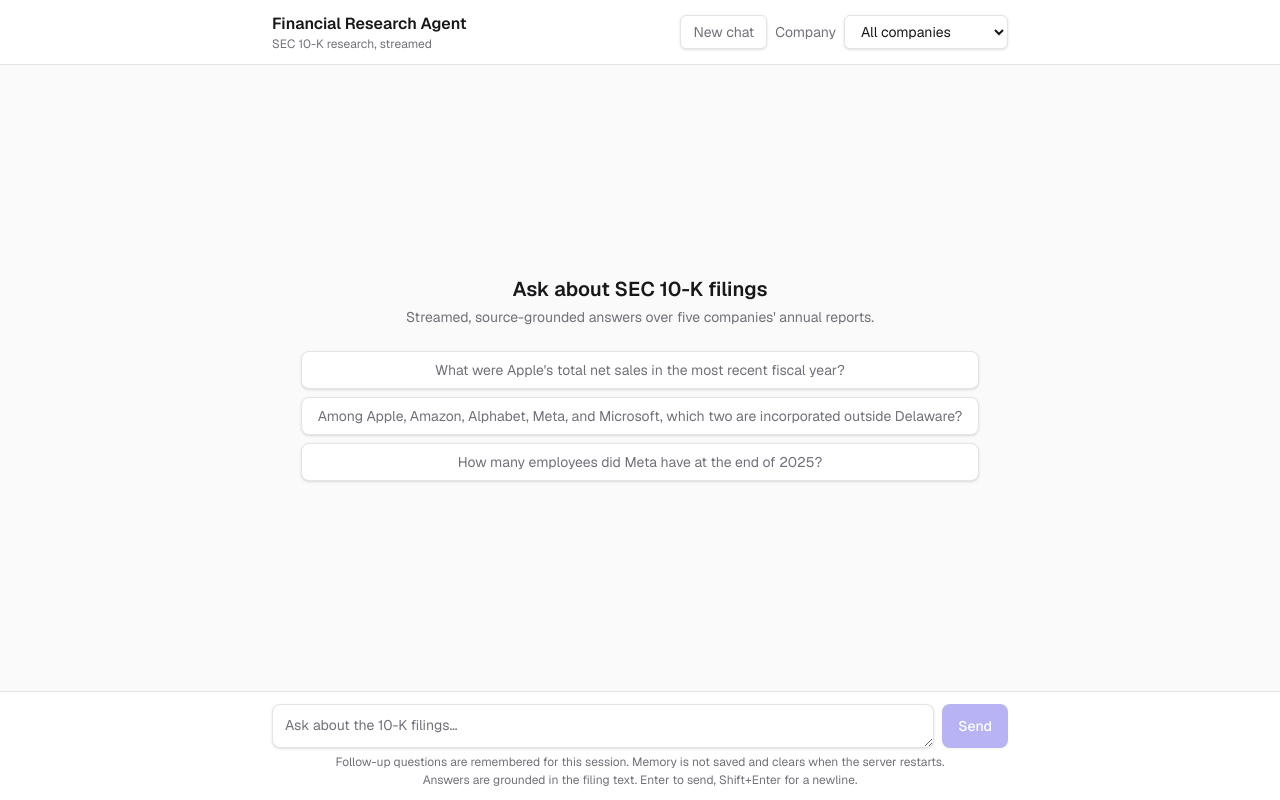
chat streaming UI › shows error copy when the stream fails
This screenshot has width=1280, height=800.
Type "Trigger a failure." into the text box named "Ask a question".
click(603, 726); type("Trigger a failure.")  # box [272,704,934,748]
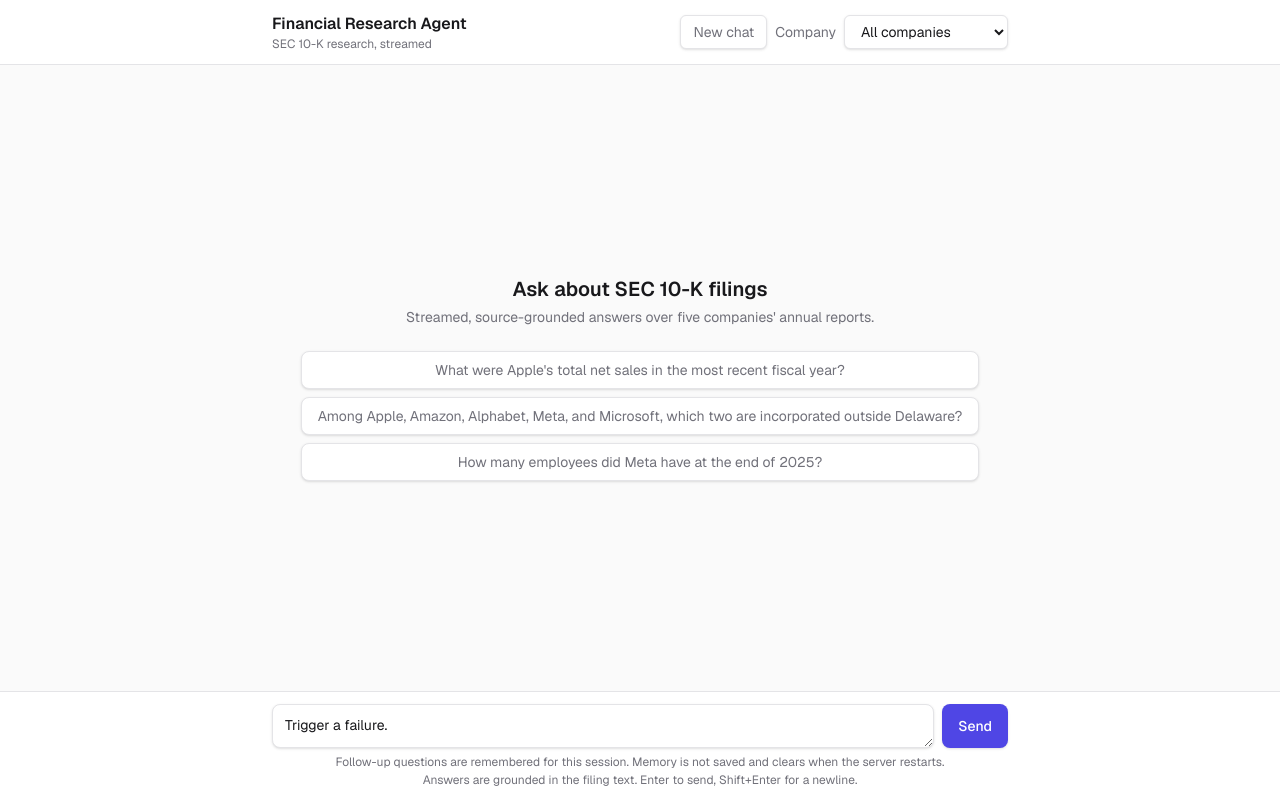
Click the button "Send".
click(975, 726)  # box [942,704,1008,748]
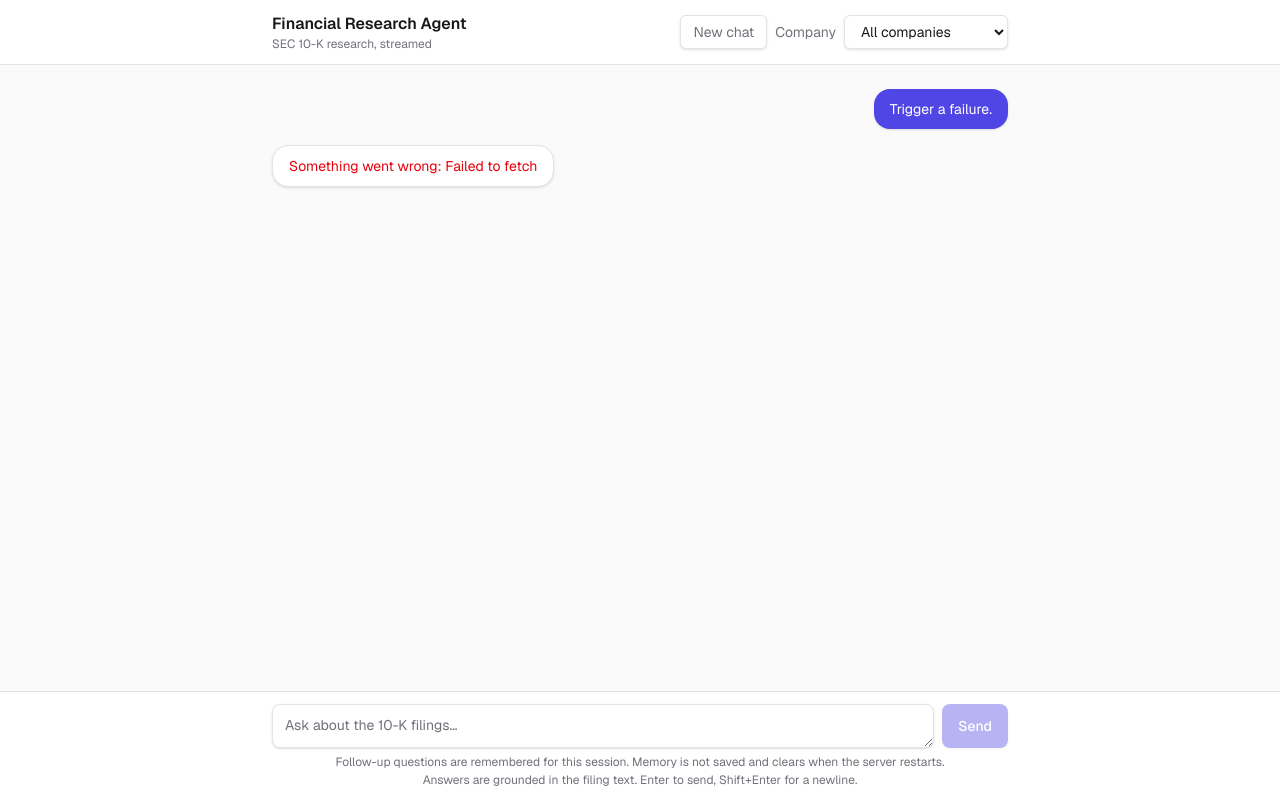
Check: the text "Something went wrong: Failed to fetch" is shown, box [289,156,537,176]
